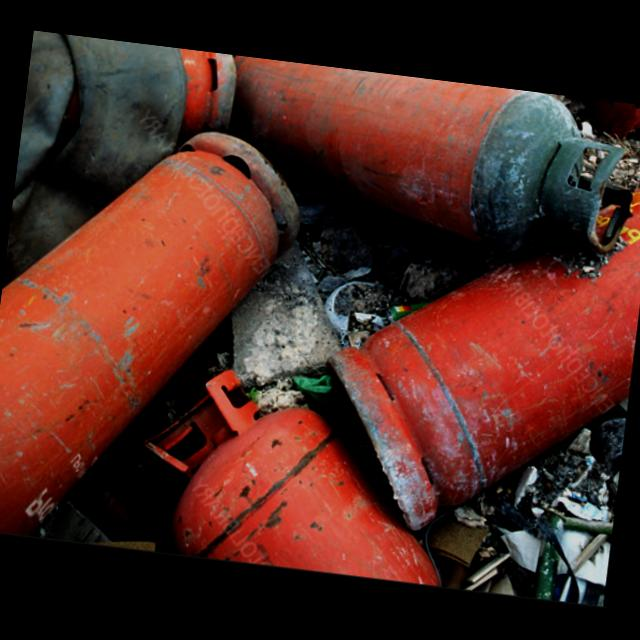Cylinders: (0, 124, 305, 534), (225, 54, 634, 254)
